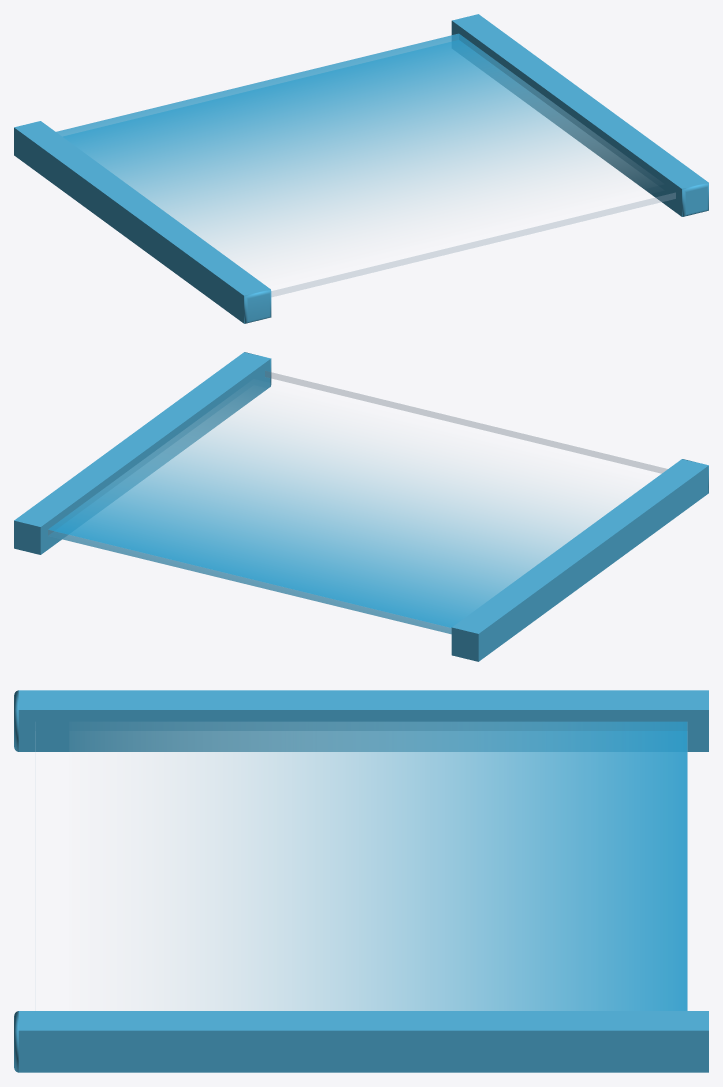
Rendered from Door.fbx.
3 views of the same model, one above another, from view 1: azimuth 30°, elevation 25°; view 2: azimuth 150°, elevation 25°; view 3: azimuth 270°, elevation 25° (orthographic). The views are drawn at different scales.
Visible parts, largest first — view 1: Door; view 2: Door; view 3: Door.
Boxes of the visible parts, left/top/right/bottom form: Door: left=14, top=14, right=708, bottom=323; Door: left=14, top=352, right=708, bottom=661; Door: left=14, top=690, right=708, bottom=1072.
Bounding box in the file's own units: 695 × 40 × 600.
